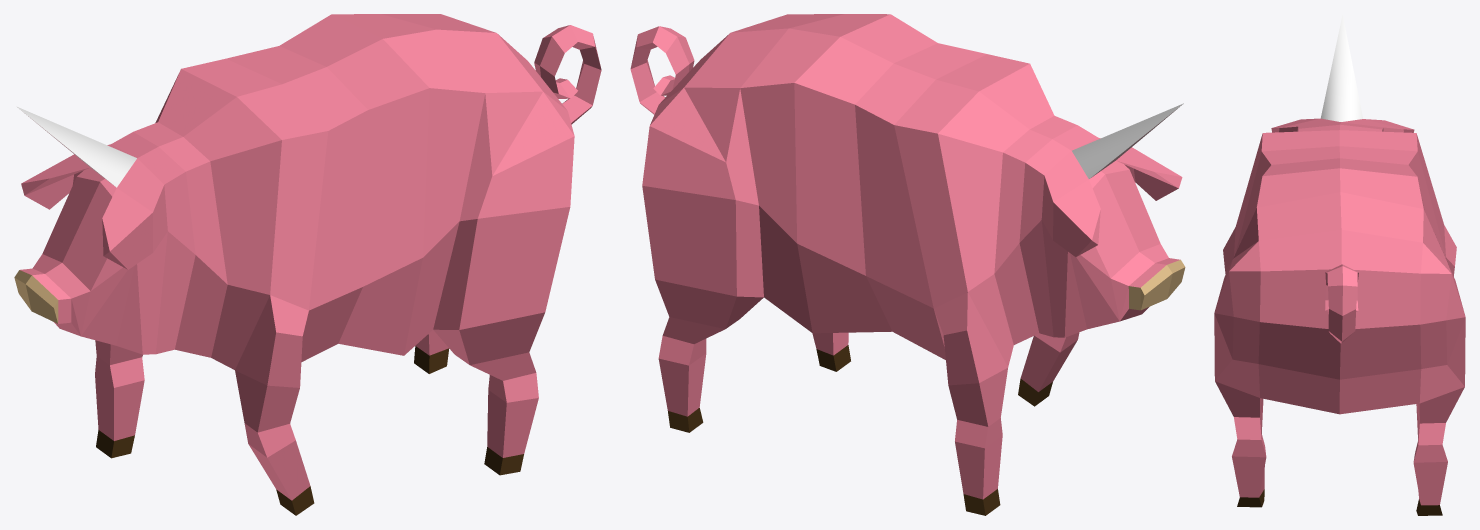
The model's file is pigWalking19.obj.
3 views of the same model, side by side, from view 1: azimuth 30°, elevation 25°; view 2: azimuth 150°, elevation 25°; view 3: azimuth 270°, elevation 25° (orthographic). The views are drawn at different scales.
Visible parts, largest first — view 1: Pig_Cylinder; view 2: Pig_Cylinder; view 3: Pig_Cylinder.
Boxes of the visible parts, bbox=[...] form: Pig_Cylinder: bbox=[14, 14, 601, 515]; Pig_Cylinder: bbox=[630, 14, 1185, 515]; Pig_Cylinder: bbox=[1214, 15, 1465, 515].
Bounding box in the file's own units: 23.12 × 16.05 × 11.11.
